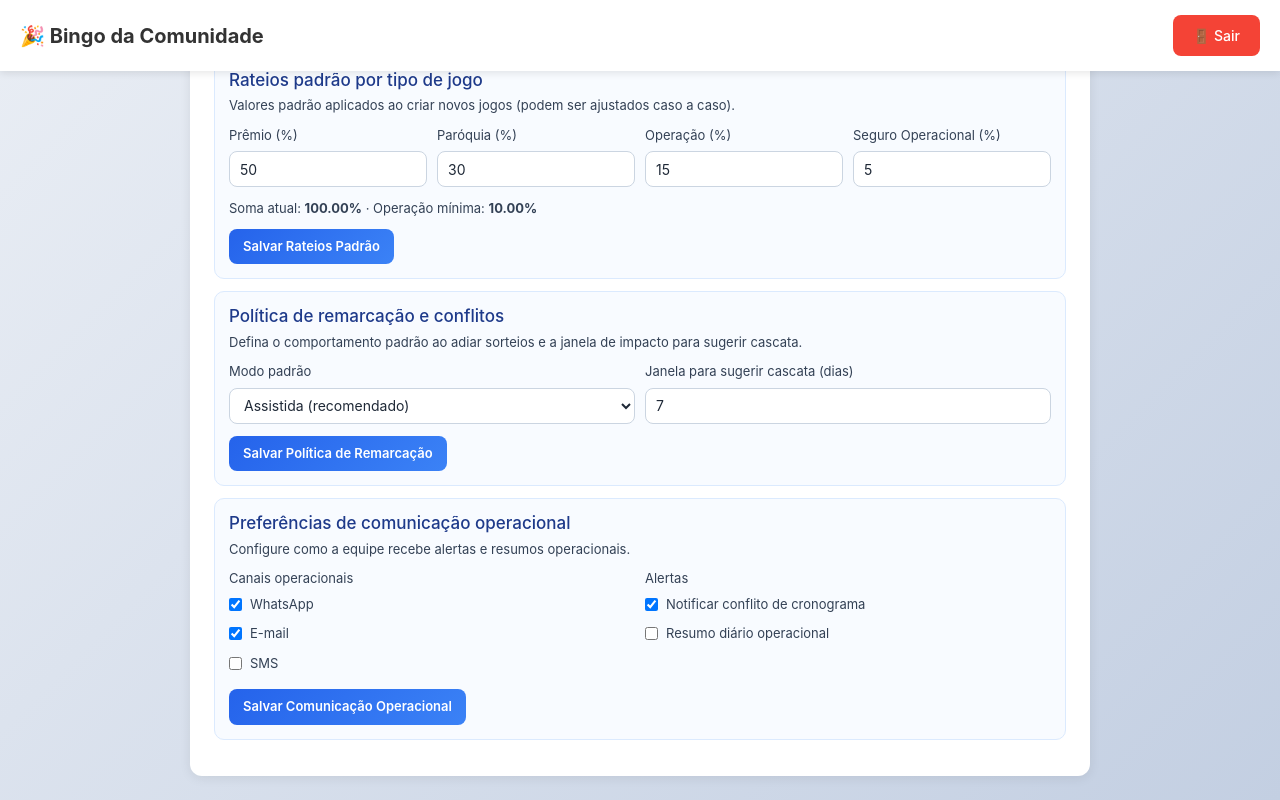
Test case: AdminParoquiaConfiguracoes › salva canais de comunicação combinados como CSV (whatsapp,sms)
(page scrolled)
Expected: the heading "Preferências de comunicação operacional" is shown, [229, 513, 570, 533]
Click the checkbox labelled "E-mail" at (236, 634), box [229, 627, 242, 640]
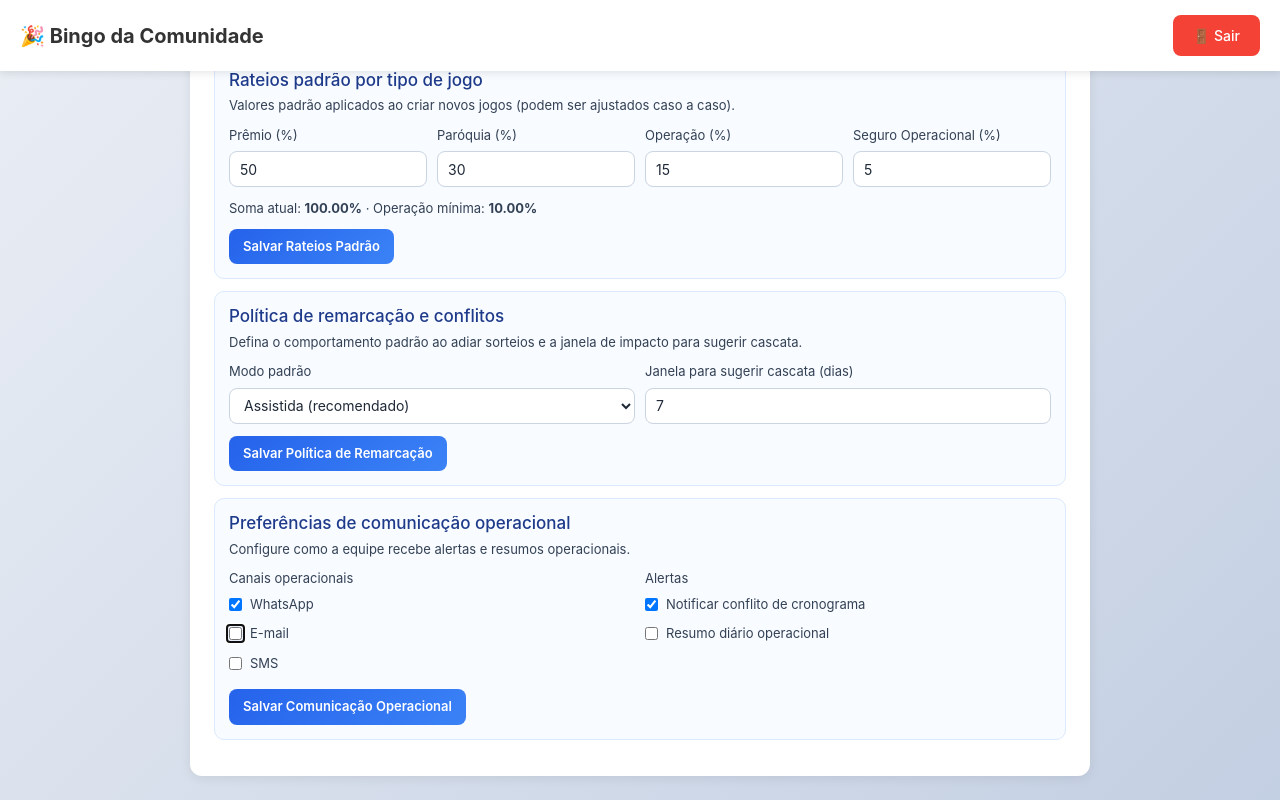
Click the checkbox labelled "SMS" at (236, 663), box [229, 657, 242, 670]
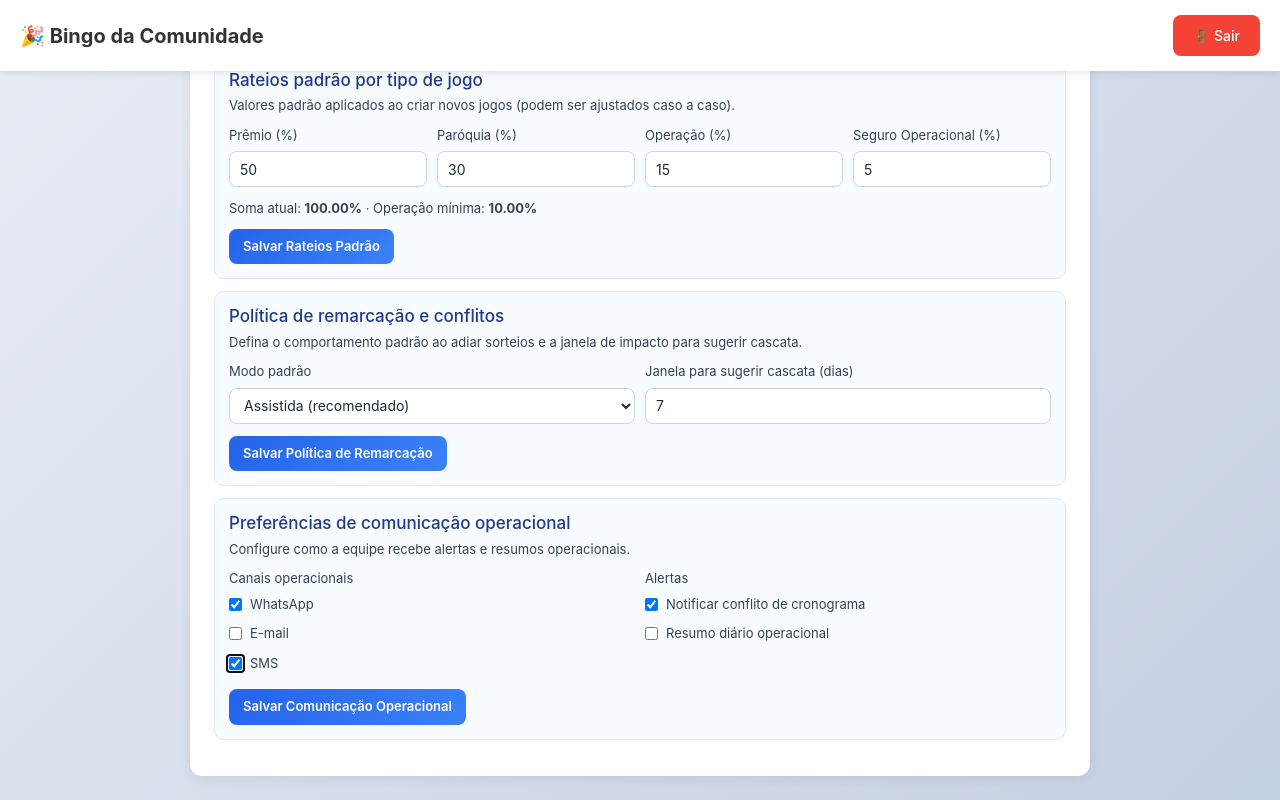
Click the button "Salvar Comunicação Operacional" at (347, 707), box [229, 689, 466, 725]
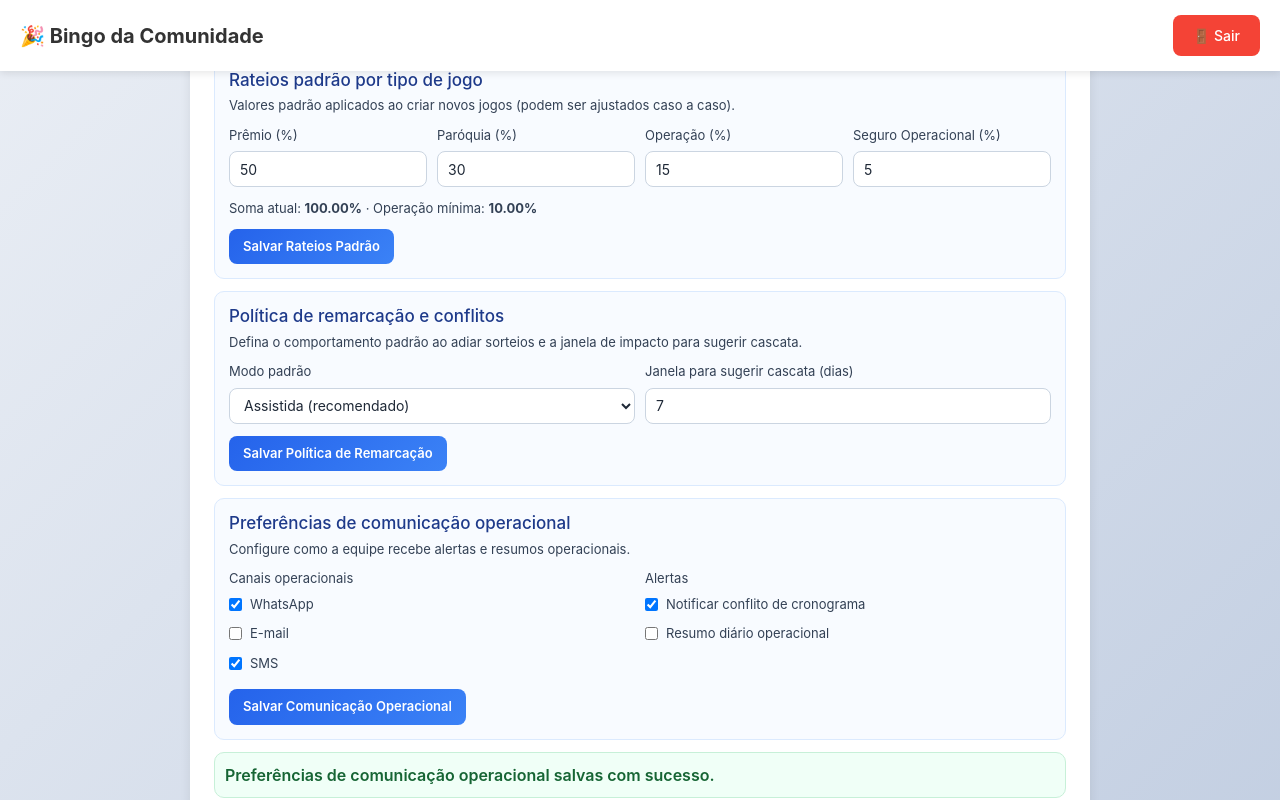
Now the text "Preferências de comunicação operacional salvas com sucesso." is shown, box [214, 752, 1066, 798]
